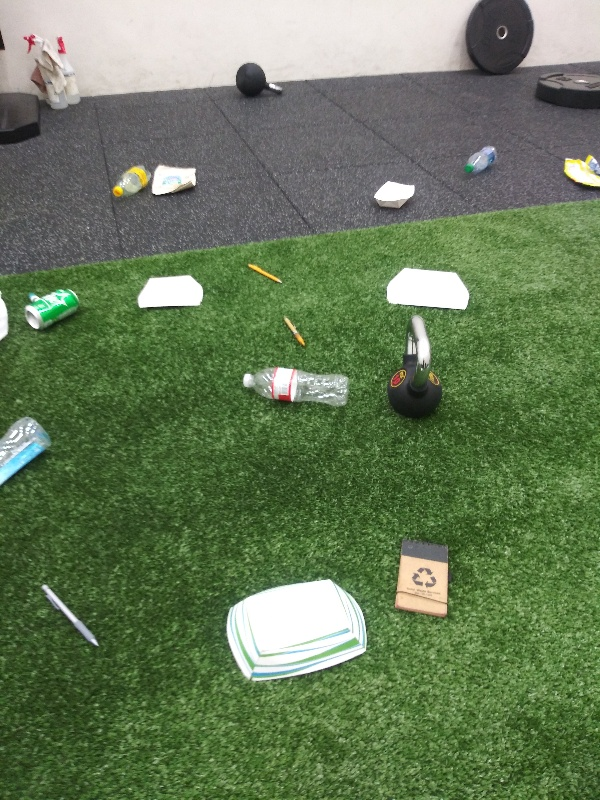bag: (150, 160, 200, 200), (558, 149, 600, 192)
bottle: (232, 360, 354, 416), (1, 413, 55, 490), (108, 159, 155, 205), (459, 139, 505, 177)
can: (21, 282, 81, 331)
plate: (224, 574, 371, 687), (385, 267, 475, 317), (134, 271, 206, 316), (367, 173, 422, 214)
